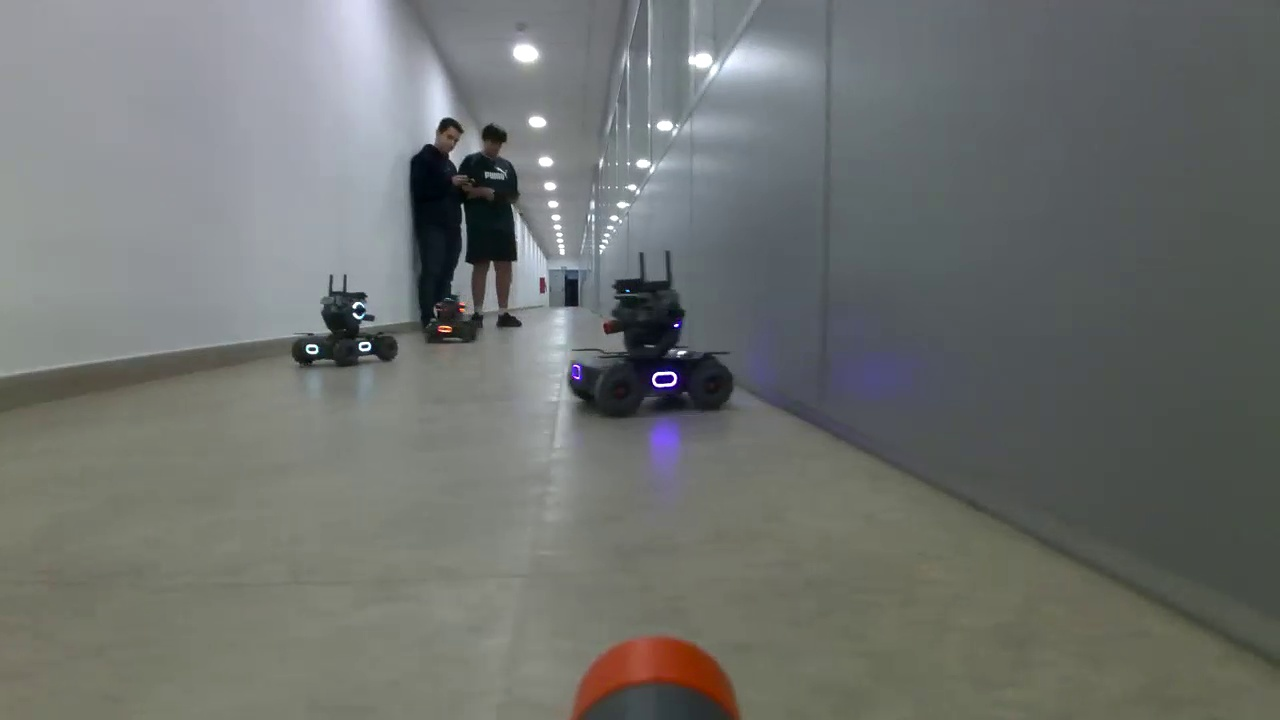robot: (567, 278, 736, 418), (290, 289, 403, 369), (424, 296, 479, 344)
